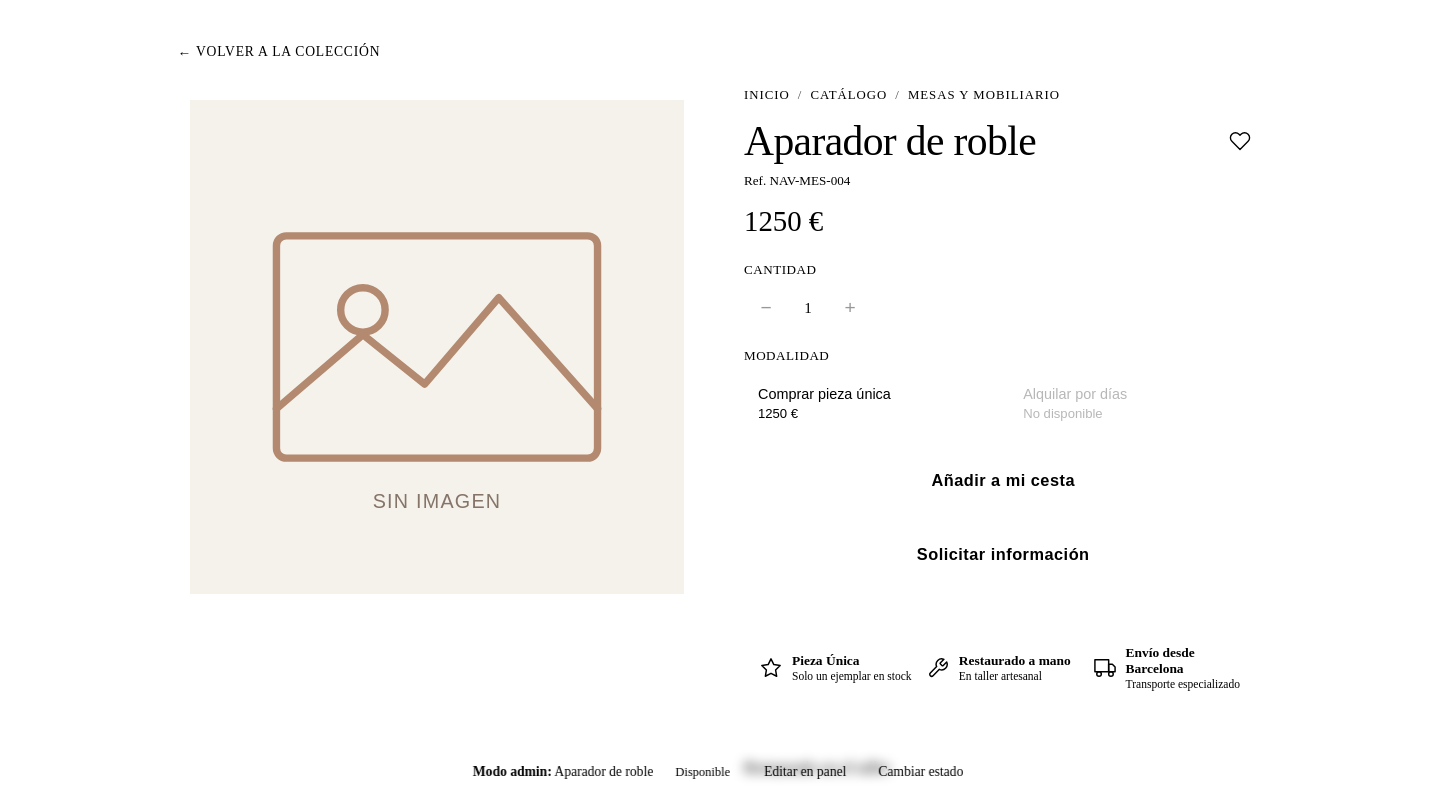
Scenario: Ficha pública — barra de modo admin › el menú de estados se maneja con el teclado como el del inventario
This screenshot has width=1440, height=810.
Expected: the heading "Aparador de roble" is shown, [744, 119, 1036, 165]
Expected: the element "Modo admin" is shown, [457, 750, 983, 794]
Click the button with aria-label "Cambiar estado de Aparador de roble" at {"x": 921, "y": 772}, box [866, 758, 975, 786]
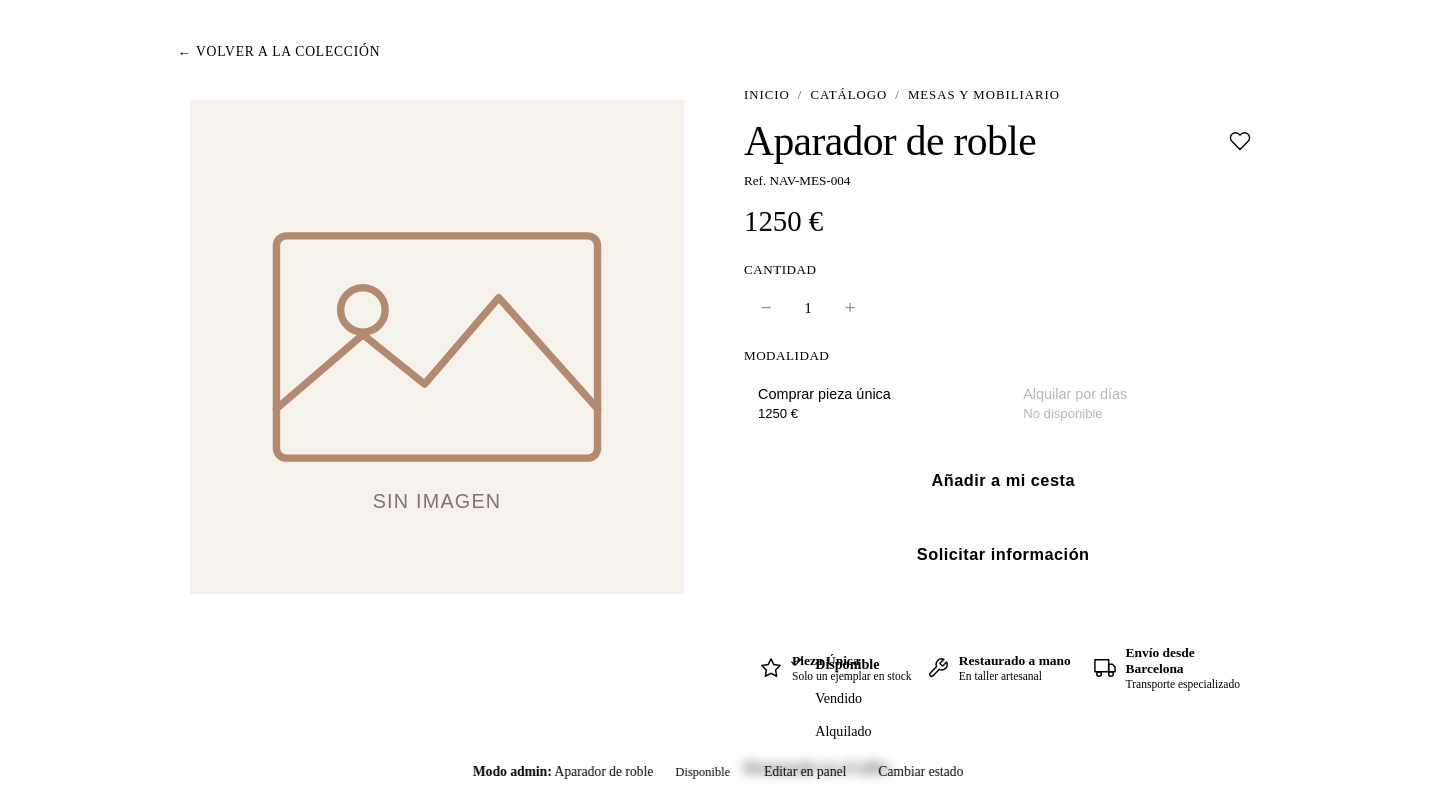
Press Arrowdown
Press End
Press Escape
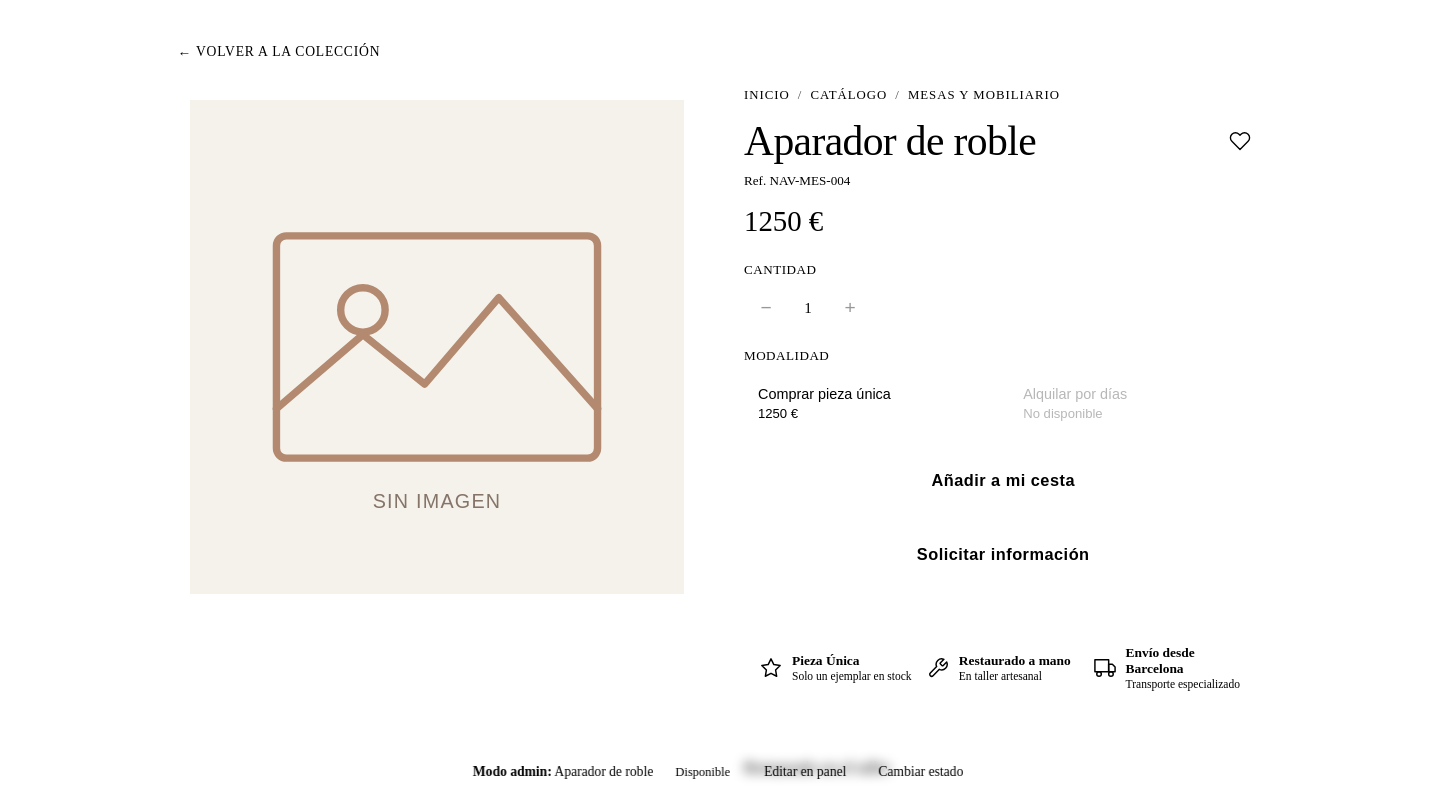
Now the menu is gone
